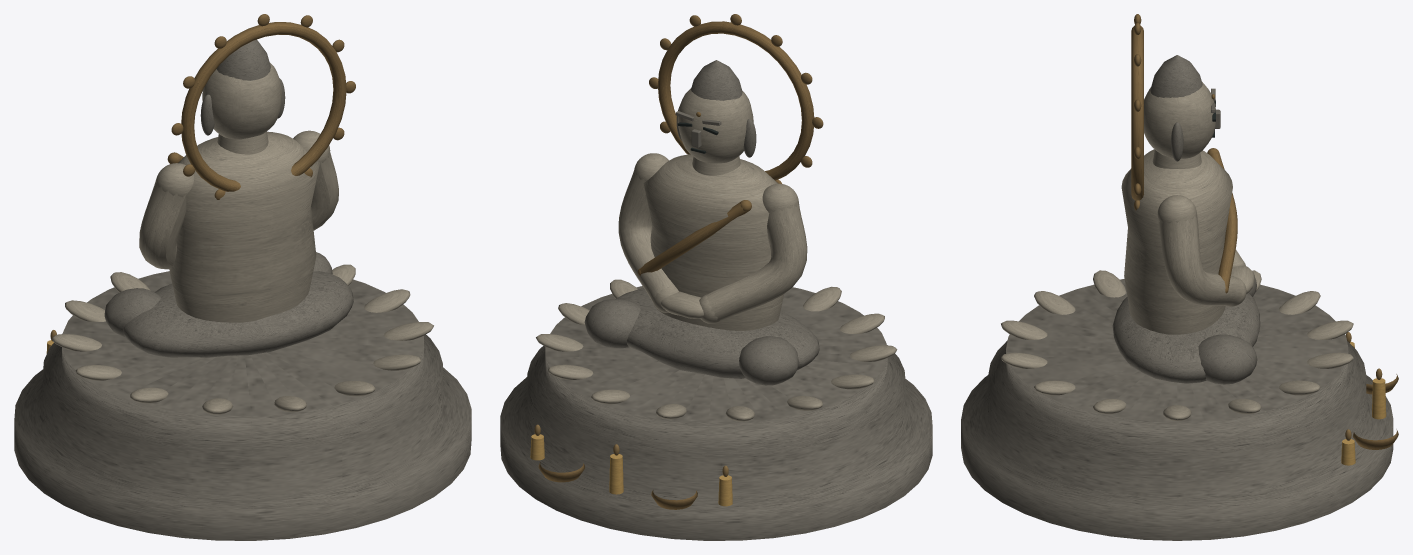
Rendered from idol.glb.
3 views of the same model, side by side, from view 1: azimuth 30°, elevation 25°; view 2: azimuth 150°, elevation 25°; view 3: azimuth 270°, elevation 25° (orthographic). The views are drawn at different scales.
Visible parts, largest first — view 1: idol; view 2: idol; view 3: idol.
Part boxes in pixels (left/top/right/bottom): idol: left=14, top=14, right=471, bottom=540; idol: left=500, top=14, right=932, bottom=540; idol: left=961, top=14, right=1398, bottom=540.
Size of the model in its own units: 2.8 by 3 by 2.8.
1 material, 1 textured.
